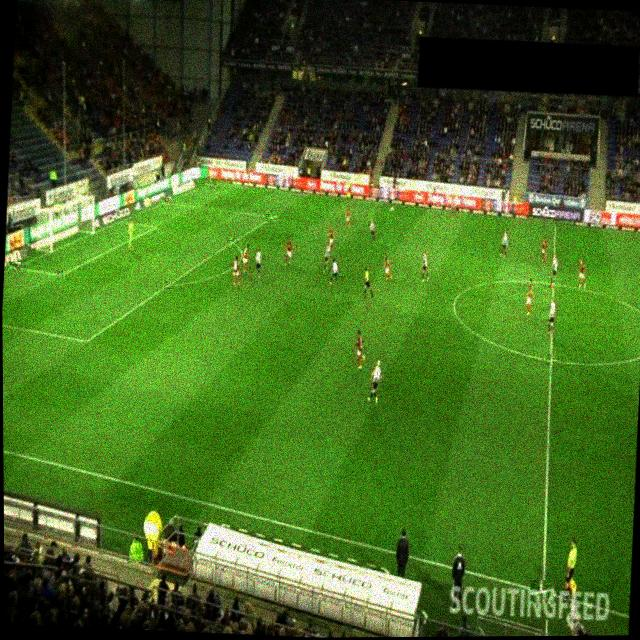bigarea_bottom_inner: (79, 335, 92, 347)
bigarea_top_inner: (266, 210, 279, 222)
bigarea_top_outter: (160, 196, 172, 209)
bottom_arc_area_intersection: (162, 279, 174, 291)
corner: (205, 178, 217, 190)
halfcircle_bottom: (545, 353, 557, 366)
halfcircle_top: (547, 277, 560, 289)
midline_bottom_intersection: (530, 579, 555, 605)
midline_top_intersection: (549, 217, 561, 229)
smallarea_bottom_inner: (56, 270, 69, 283)
smallarea_bottom_outter: (8, 261, 21, 274)
smallarea_top_inner: (151, 220, 163, 233)
smallarea_top_outter: (112, 216, 125, 228)
top_arc_area_intersection: (226, 237, 238, 250)
